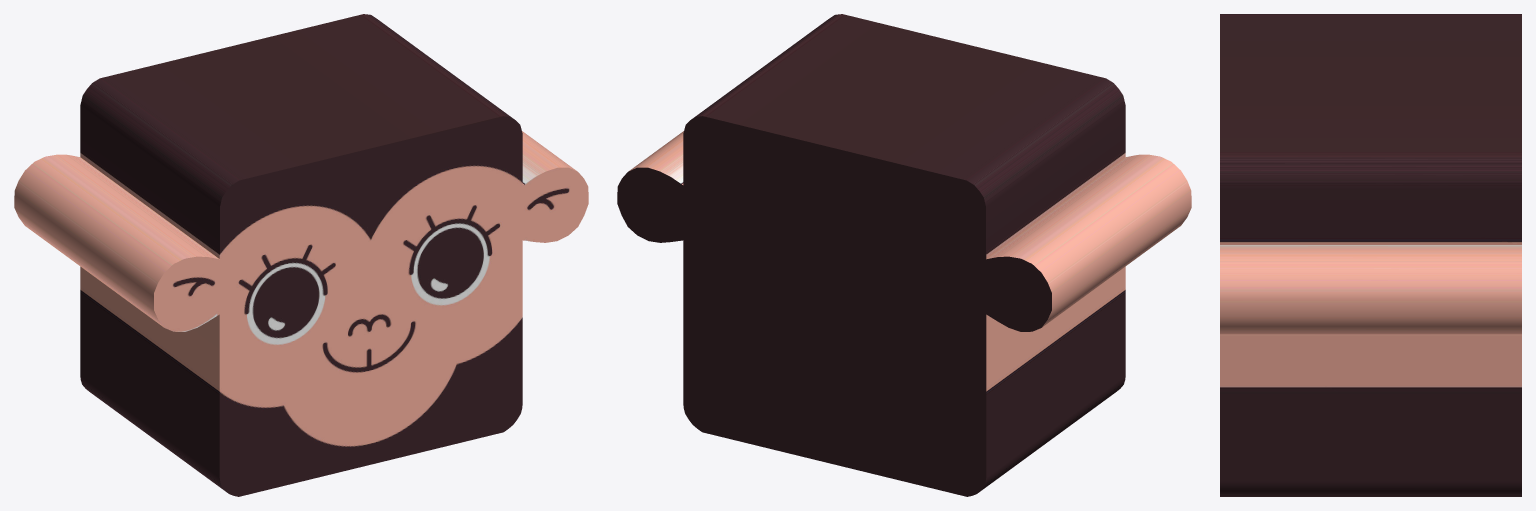
Rendered from Monkey.fbx.
The picture shows the model from 3 angles, left to right: view 1: azimuth 30°, elevation 25°; view 2: azimuth 150°, elevation 25°; view 3: azimuth 270°, elevation 25°; orthographic projection. The views are drawn at different scales.
Parts seen in each view (by area): view 1: monkey; view 2: monkey; view 3: monkey.
Boxes of the visible parts, box(x1,y1,x2,y2) form: monkey: box(14, 14, 588, 496); monkey: box(617, 14, 1191, 496); monkey: box(1220, 14, 1521, 496).
Bounding box in the file's own units: 7.69 × 5.35 × 4.27.
1 material, 1 textured.
